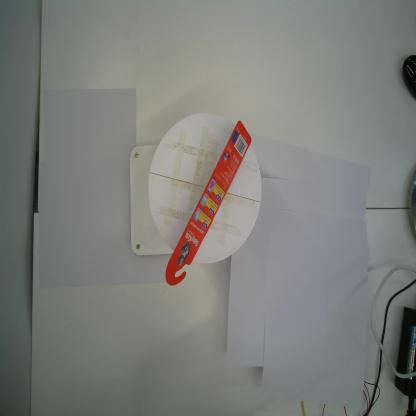Personal Hygiene: (165, 121, 252, 287)
